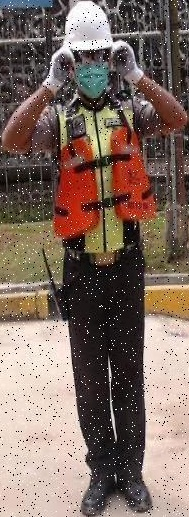boots: (80, 471, 116, 515), (117, 474, 152, 512)
gloves: (110, 40, 144, 85), (46, 44, 76, 90)
hard-hat: (63, 0, 113, 53)
vest: (31, 83, 151, 261)
